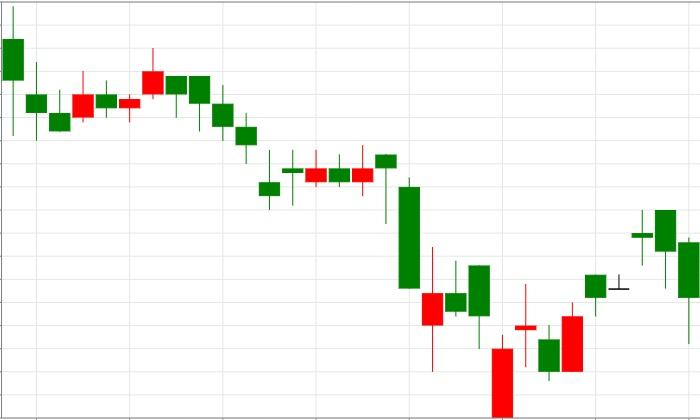three_black_crows_fall: (118, 47, 258, 164)
